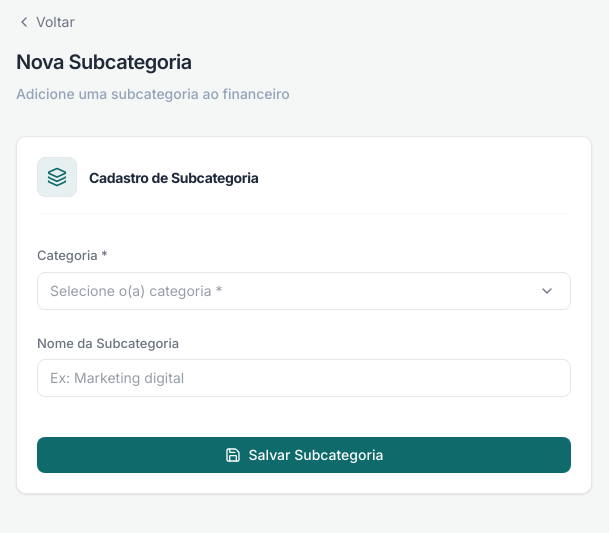
<FinancialSubcategoryCreate> › recusa submeter sem categoria escolhida
In the field with placeholder "Ex: Marketing digital": (304, 378) [37,359,571,397], type "Sem categoria"
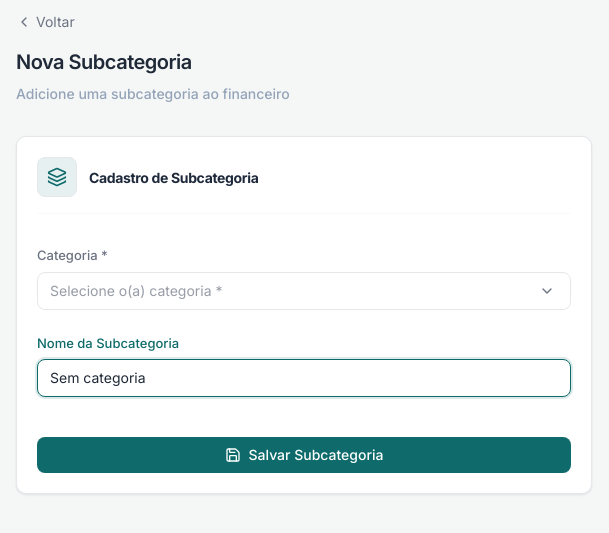
Click the button "Salvar Subcategoria": (304, 455) [37,437,571,473]
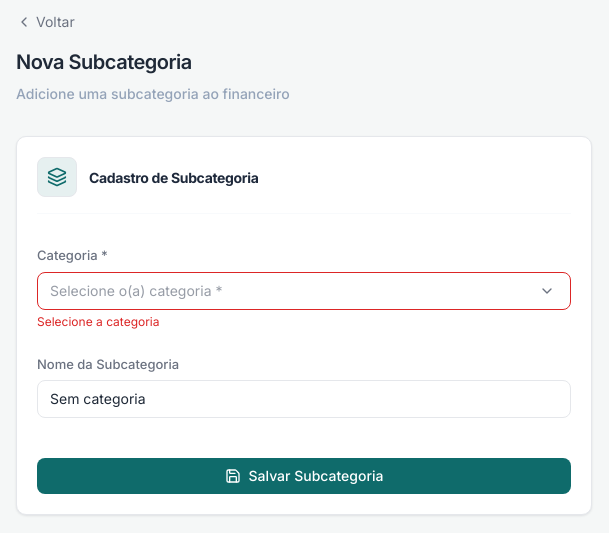
expect the text "Selecione a categoria" is shown: met, box [37,314,160,328]
